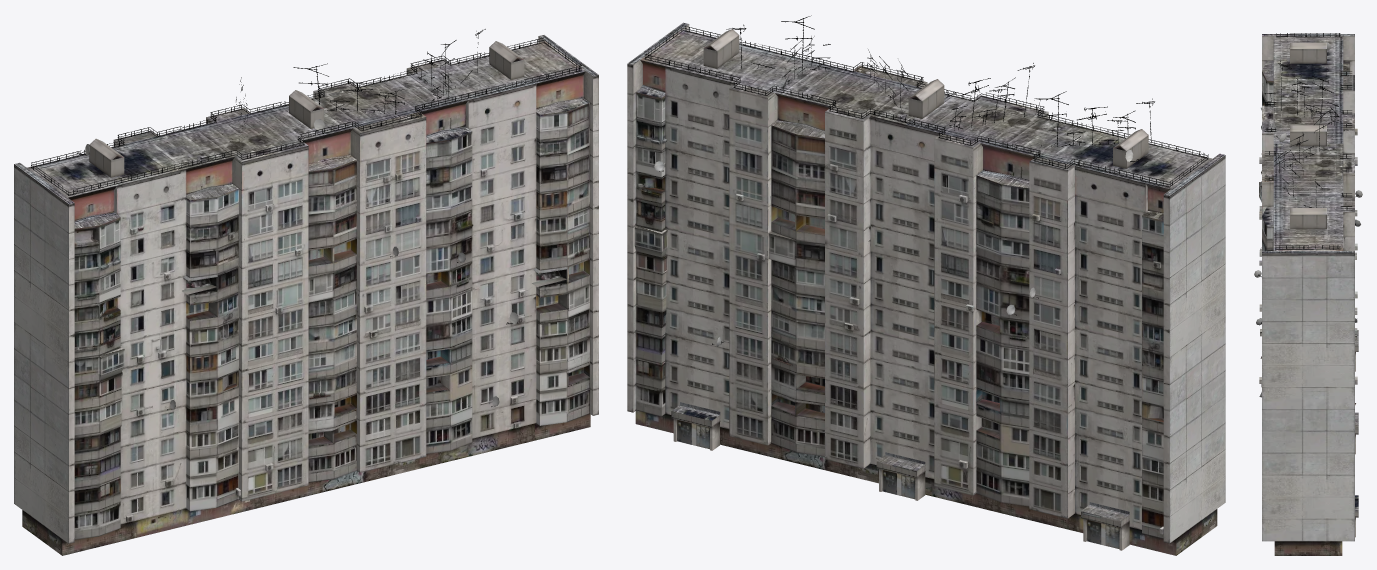
The model's file is panel12.glb.
3 views of the same model, side by side, from view 1: azimuth 30°, elevation 25°; view 2: azimuth 150°, elevation 25°; view 3: azimuth 270°, elevation 25° (orthographic). The views are drawn at different scales.
Visible parts, largest first — view 1: 12stbuilding1_LOD0; view 2: 12stbuilding1_LOD0; view 3: 12stbuilding1_LOD0.
Part boxes in pixels (x1,y1,x2,y2): 12stbuilding1_LOD0: (14,29,598,555); 12stbuilding1_LOD0: (627,15,1225,555); 12stbuilding1_LOD0: (1254,33,1362,555).
Size of what is drawn, in the model's own units: 53.93 by 40.09 by 11.3.
2 materials, 2 textured.
